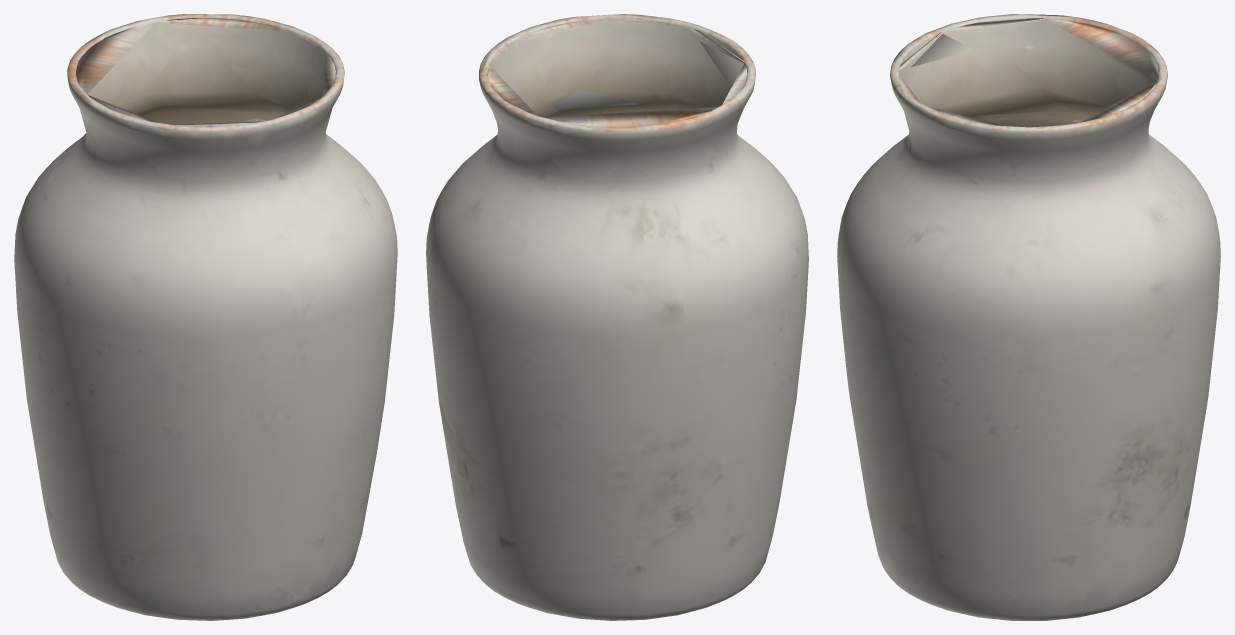
File: ceramic_vase_02.glb
The picture shows the model from 3 angles, left to right: view 1: azimuth 30°, elevation 25°; view 2: azimuth 150°, elevation 25°; view 3: azimuth 270°, elevation 25°; orthographic projection.
Parts seen in each view (by area): view 1: ceramic_vase_02, ceramic_vase_02_lo; view 2: ceramic_vase_02, ceramic_vase_02_lo; view 3: ceramic_vase_02, ceramic_vase_02_lo.
Part boxes in pixels (x1,y1,x2,y2): ceramic_vase_02: (14,14,397,620); ceramic_vase_02_lo: (32,18,376,555); ceramic_vase_02: (426,14,808,620); ceramic_vase_02_lo: (438,19,771,470); ceramic_vase_02: (837,14,1220,620); ceramic_vase_02_lo: (861,18,1191,486).
Bounding box in the file's own units: 0.2184 × 0.3092 × 0.2184.
Materials: 1 (1 with a texture image).
